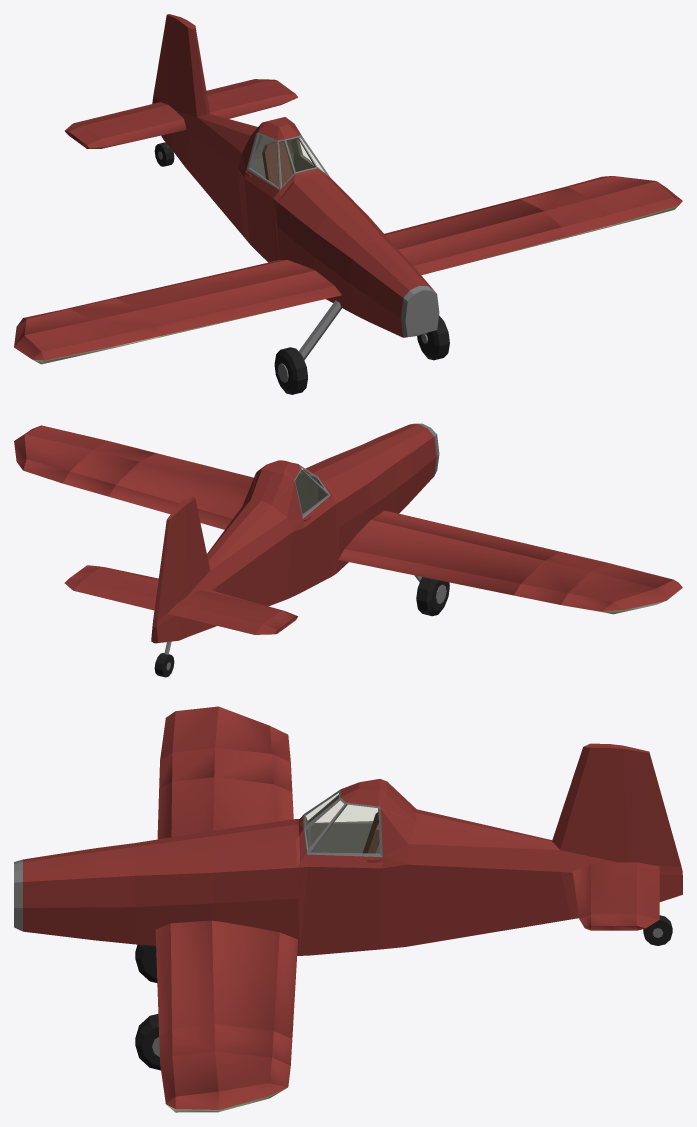
File: aircraft_16.glb
3 renders of one model, top to bottom at view 1: azimuth 30°, elevation 25°; view 2: azimuth 150°, elevation 25°; view 3: azimuth 270°, elevation 25°, orthographic. The views are drawn at different scales.
Visible parts, largest first — view 1: fuselage, WingRightRoot, WingLeftRoot, WingRight, horizontal stabiliser, WingLeft, Main tire -1, seat, Main tire 1, Main gear leg -1; view 2: fuselage, WingRightRoot, WingRight, WingLeftRoot, horizontal stabiliser, WingLeft, Main tire -1; view 3: fuselage, WingLeftRoot, WingLeft, WingRight, WingRightRoot, horizontal stabiliser, Main tire 1, Main tire -1.
Boxes of the visible parts, <box> form: fuselage: <box>152,14,439,337</box>; WingRightRoot: <box>110,260,341,337</box>; WingLeftRoot: <box>384,199,566,275</box>; WingRight: <box>14,298,161,364</box>; horizontal stabiliser: <box>65,79,297,148</box>; WingLeft: <box>514,176,682,238</box>; Main tire -1: <box>274,347,307,394</box>; seat: <box>262,141,293,187</box>; Main tire 1: <box>417,315,449,360</box>; Main gear leg -1: <box>298,300,341,360</box>; fuselage: <box>151,423,439,643</box>; WingRightRoot: <box>338,510,560,595</box>; WingRight: <box>513,552,682,614</box>; WingLeftRoot: <box>108,453,253,529</box>; horizontal stabiliser: <box>64,565,297,634</box>; WingLeft: <box>14,425,156,496</box>; Main tire -1: <box>416,577,449,616</box>; fuselage: <box>14,743,682,955</box>; WingLeftRoot: <box>155,920,297,1038</box>; WingLeft: <box>159,1024,292,1112</box>; WingRight: <box>159,706,292,791</box>; WingRightRoot: <box>157,777,293,839</box>; horizontal stabiliser: <box>572,862,659,930</box>; Main tire 1: <box>135,1014,160,1070</box>; Main tire -1: <box>135,944,157,982</box>.
Size of the model in its own units: 12.9 by 4.22 by 9.16.
